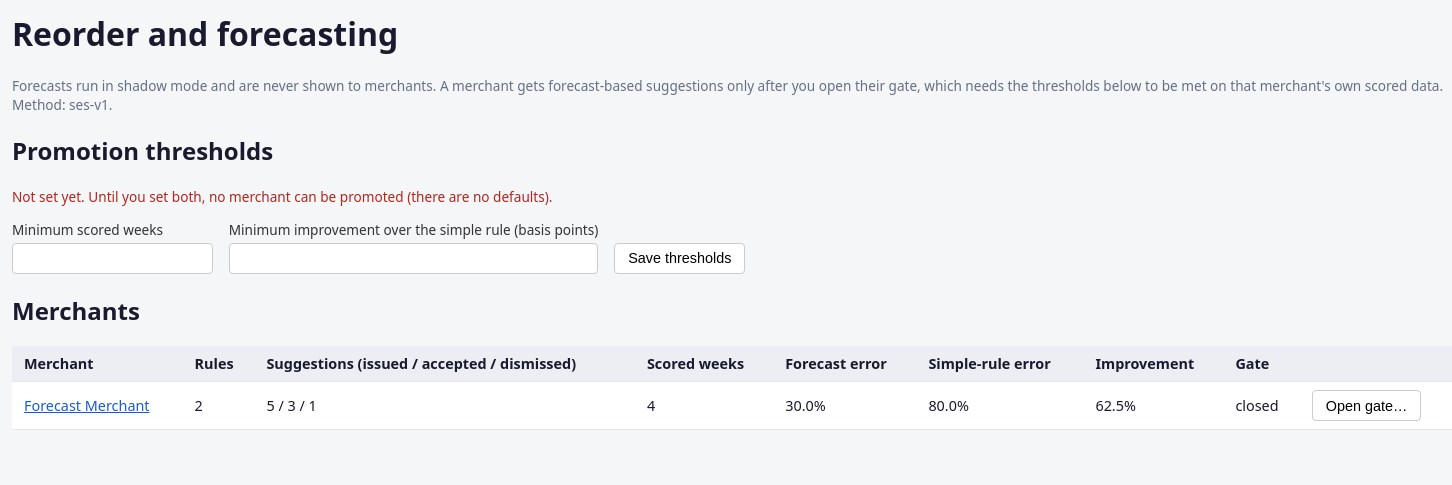
Test: ReorderPage › lets the owner save thresholds
This screenshot has width=1452, height=485.
Type "3" into the field labelled "Minimum scored weeks". click: (112, 258)
box: [12,243,213,274]
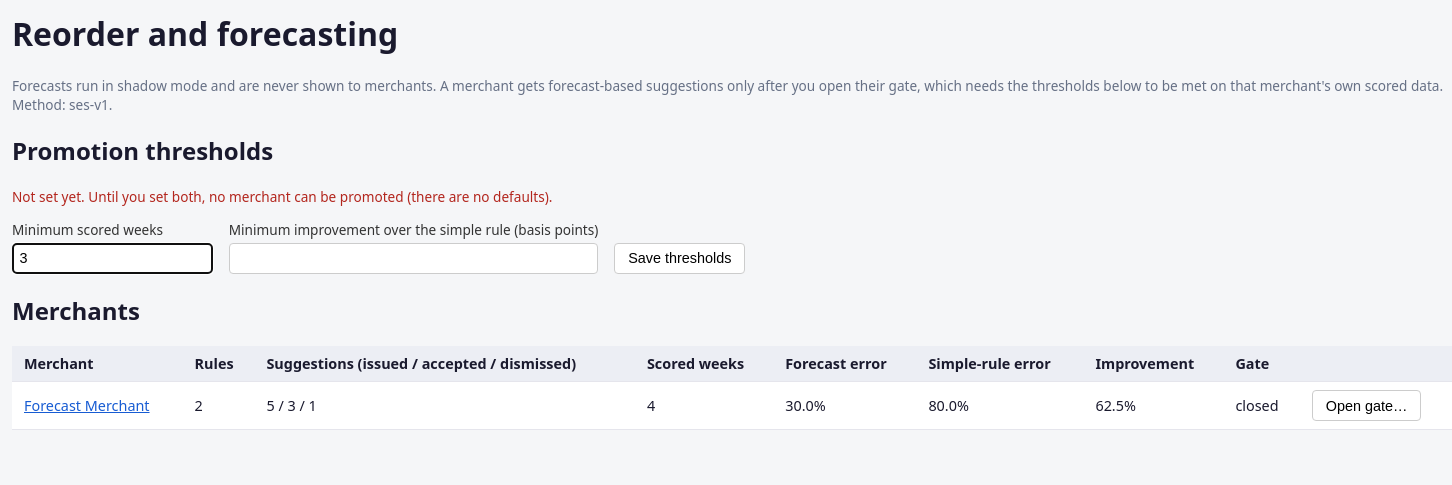
Type "2000" into the field labelled "Minimum improvement over the simple rule (basis points)". click: (414, 258)
box: [229,243,598,274]
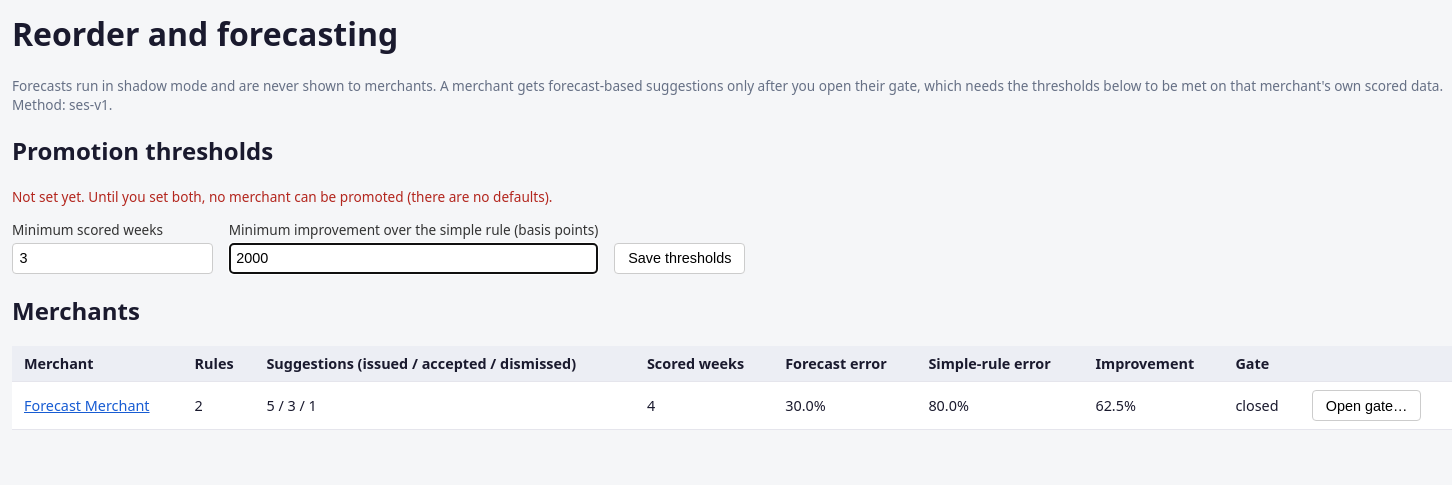
Click the button "Save thresholds". click: (680, 258)
box: [614,243,745,274]
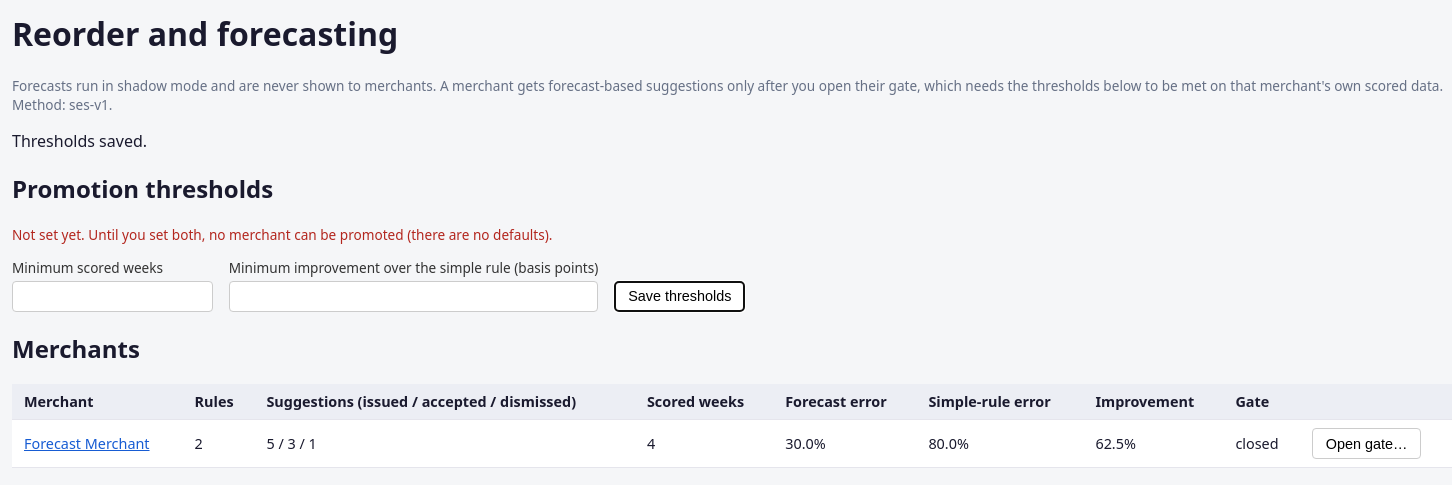
Result: the message reads "Thresholds saved." at [12,130,147,152]
